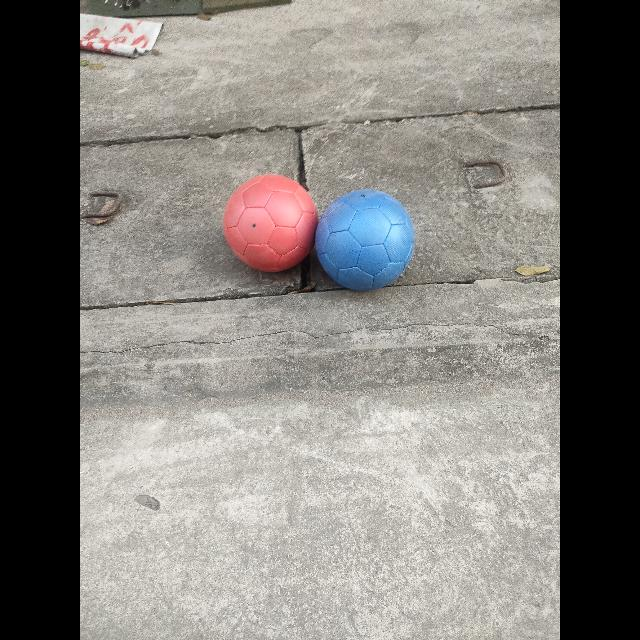B: (315, 190, 415, 292)
R: (222, 174, 318, 274)
